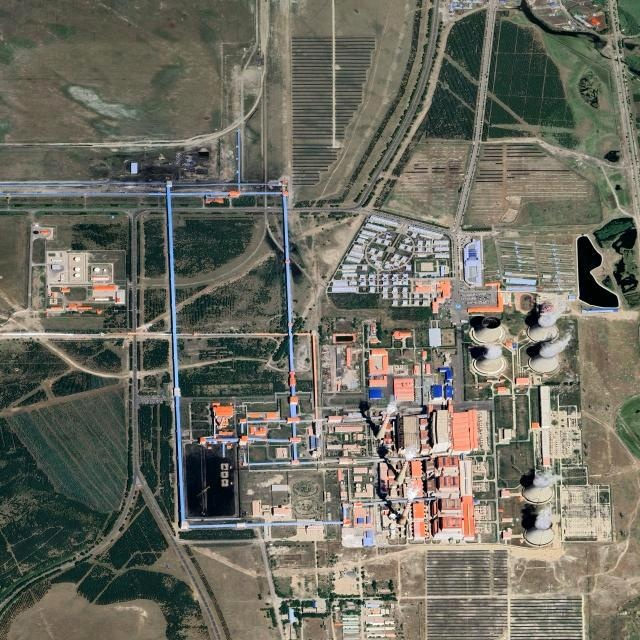coal_fired_power_plant: (318, 312, 611, 549)
